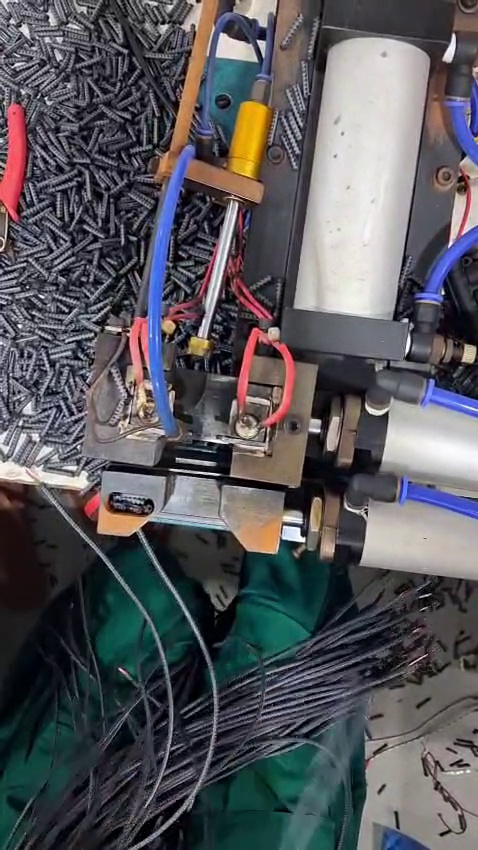intact_wire: (152, 573, 220, 636)
machine: (74, 313, 338, 511)
peeled_wire: (6, 457, 62, 503)
